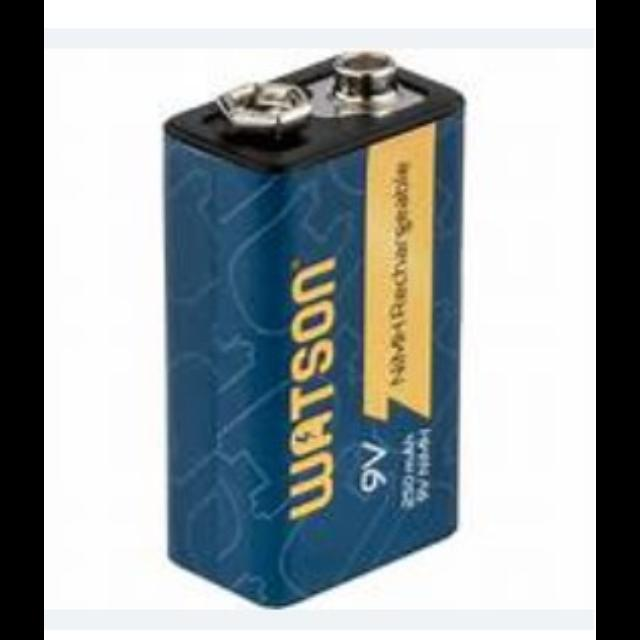Battery: (161, 55, 461, 610)
